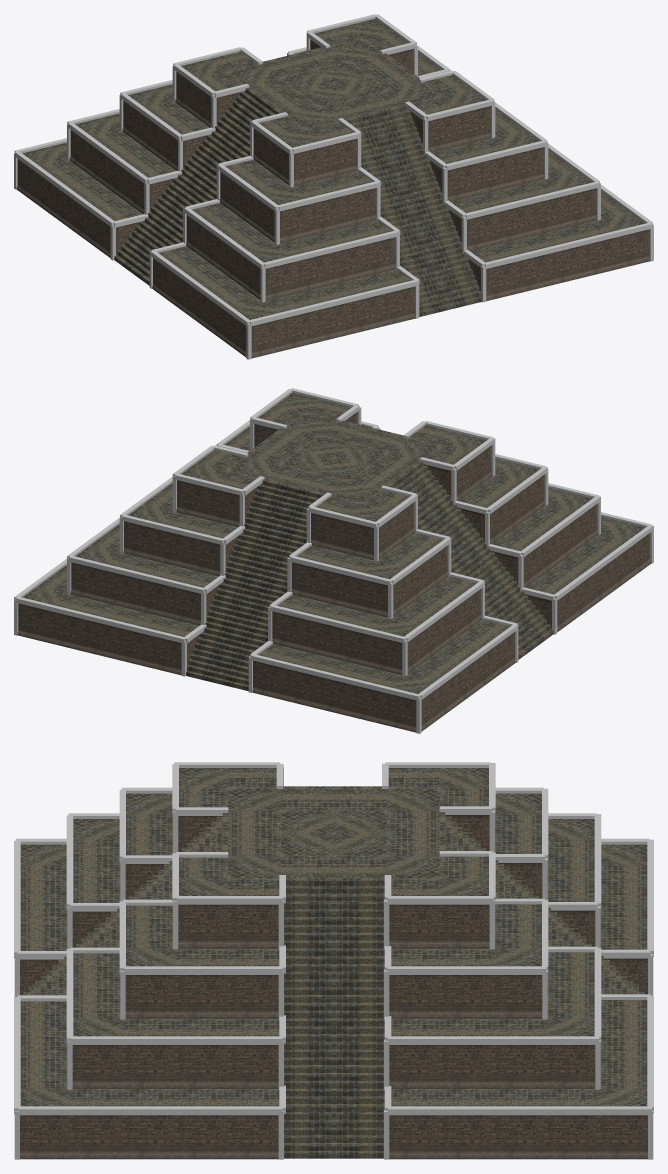
Rendered from m_temple_pyramid_altair_01.fbx.
The picture shows the model from 3 angles, top to bottom: view 1: azimuth 30°, elevation 25°; view 2: azimuth 150°, elevation 25°; view 3: azimuth 270°, elevation 25°; orthographic projection. The views are drawn at different scales.
Parts seen in each view (by area): view 1: m_pyramid_altair_floors, m_pyramid_altair_walls, m_pyramid_altair_beams; view 2: m_pyramid_altair_floors, m_pyramid_altair_walls, m_pyramid_altair_beams; view 3: m_pyramid_altair_floors, m_pyramid_altair_walls, m_pyramid_altair_beams.
Boxes of the visible parts, x1=… form: m_pyramid_altair_floors: x1=22, y1=18, x2=645, y2=319; m_pyramid_altair_walls: x1=16, y1=39, x2=650, y2=358; m_pyramid_altair_beams: x1=14, y1=14, x2=653, y2=359; m_pyramid_altair_floors: x1=22, y1=392, x2=645, y2=693; m_pyramid_altair_walls: x1=17, y1=412, x2=651, y2=732; m_pyramid_altair_beams: x1=14, y1=388, x2=653, y2=733; m_pyramid_altair_floors: x1=20, y1=768, x2=647, y2=1158; m_pyramid_altair_walls: x1=20, y1=815, x2=647, y2=1159; m_pyramid_altair_beams: x1=14, y1=762, x2=653, y2=1159.
Bounding box in the file's own units: 4850 × 1625 × 4850.
